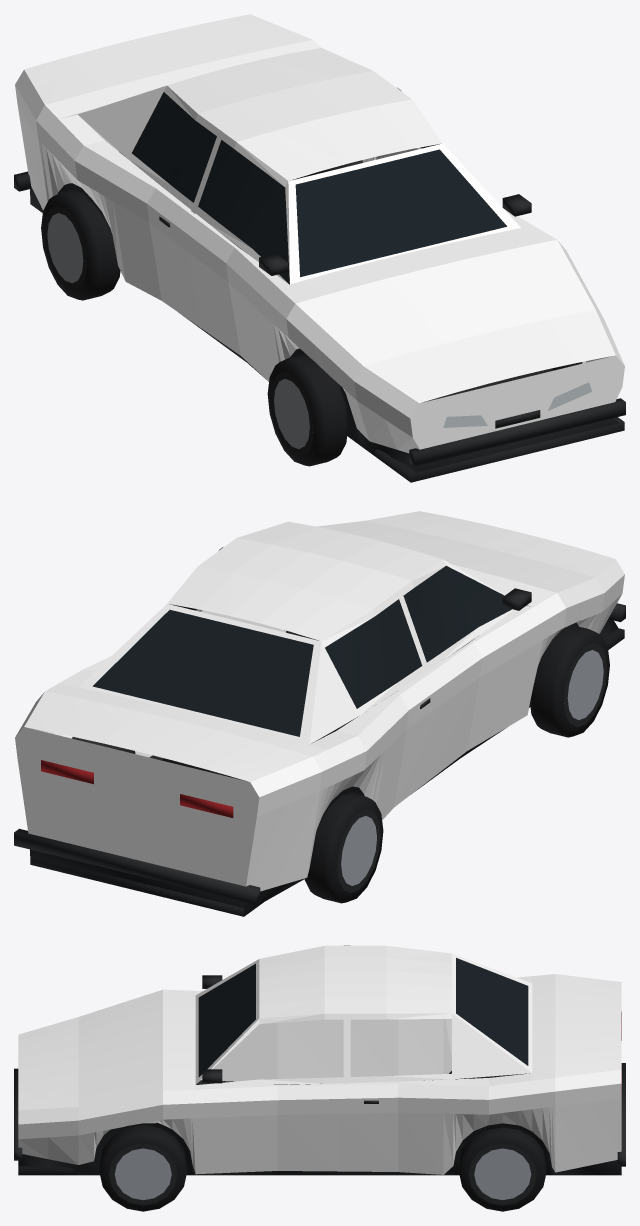
The model's file is mizuchi_pavio.glb.
3 views of the same model, one above another, from view 1: azimuth 30°, elevation 25°; view 2: azimuth 150°, elevation 25°; view 3: azimuth 270°, elevation 25° (orthographic). The views are drawn at different scales.
Parts seen in each view (by area): view 1: Body_Paint, Body_Details, Mount_FrontLeft_Wheel_Details, Mount_RearLeft_Wheel_Details; view 2: Body_Paint, Body_Details, Mount_FrontLeft_Wheel_Details, Mount_RearLeft_Wheel_Details; view 3: Body_Paint, Body_Details, Mount_FrontRight_Wheel_Details, Mount_RearRight_Wheel_Details.
Part boxes in pixels (bbox=[...]): Body_Paint: bbox=[15, 14, 624, 453]; Body_Details: bbox=[14, 92, 625, 482]; Mount_FrontLeft_Wheel_Details: bbox=[267, 354, 348, 466]; Mount_RearLeft_Wheel_Details: bbox=[41, 189, 120, 300]; Body_Paint: bbox=[15, 511, 624, 891]; Body_Details: bbox=[14, 565, 625, 916]; Mount_FrontLeft_Wheel_Details: bbox=[530, 624, 609, 737]; Mount_RearLeft_Wheel_Details: bbox=[304, 792, 383, 903]; Body_Paint: bbox=[18, 945, 621, 1174]; Body_Details: bbox=[14, 958, 625, 1175]; Mount_FrontRight_Wheel_Details: bbox=[99, 1124, 187, 1211]; Mount_RearRight_Wheel_Details: bbox=[458, 1127, 546, 1211].
Size of the model in its own units: 1.77 by 1.31 by 4.03.
2 materials, 1 textured.
